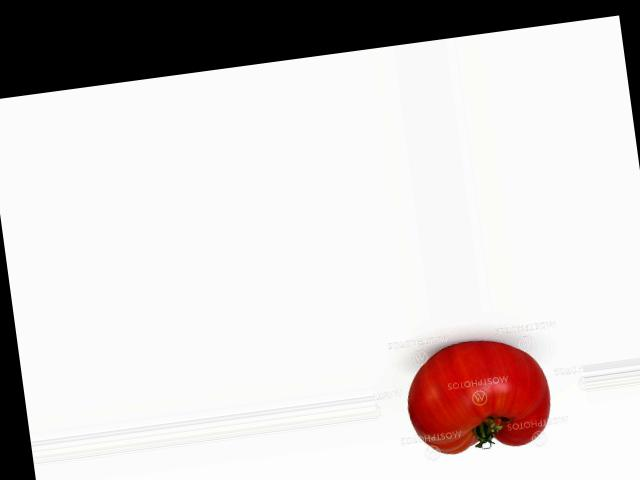tomato: (400, 332, 554, 459)
